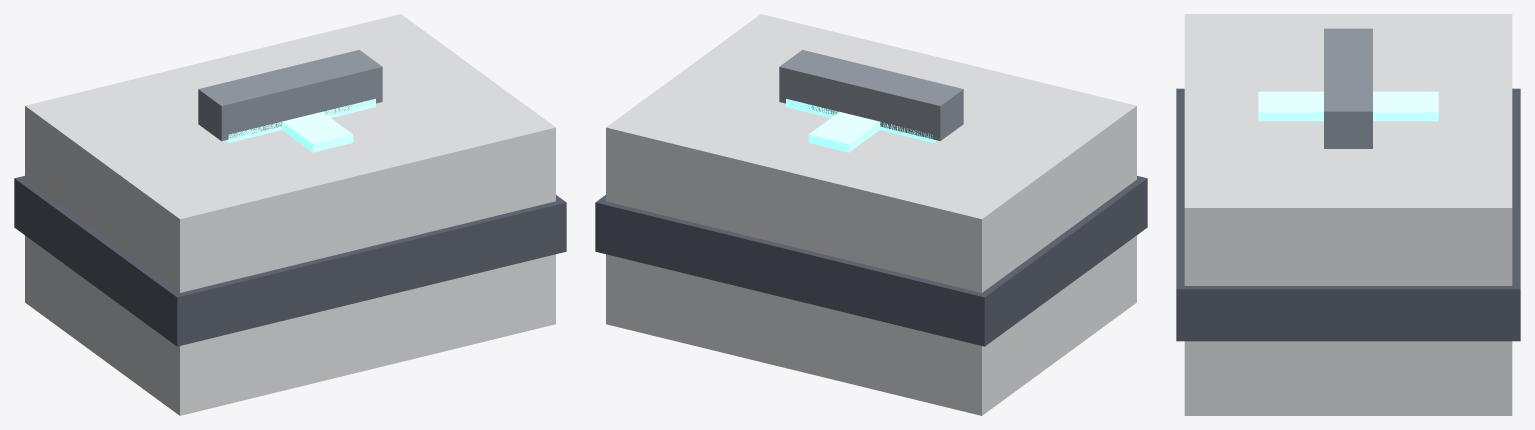
File: prop_medkit.glb
The picture shows the model from 3 angles, left to right: view 1: azimuth 30°, elevation 25°; view 2: azimuth 150°, elevation 25°; view 3: azimuth 270°, elevation 25°; orthographic projection. The views are drawn at different scales.
Visible parts, largest first — view 1: Prop_Medkit; view 2: Prop_Medkit; view 3: Prop_Medkit.
Part boxes in pixels (box(x1,y1,x2,y2)): Prop_Medkit: box(14, 14, 566, 415); Prop_Medkit: box(595, 14, 1147, 415); Prop_Medkit: box(1176, 14, 1520, 415).
Size of the model in its own units: 0.29 by 0.1675 by 0.21.
